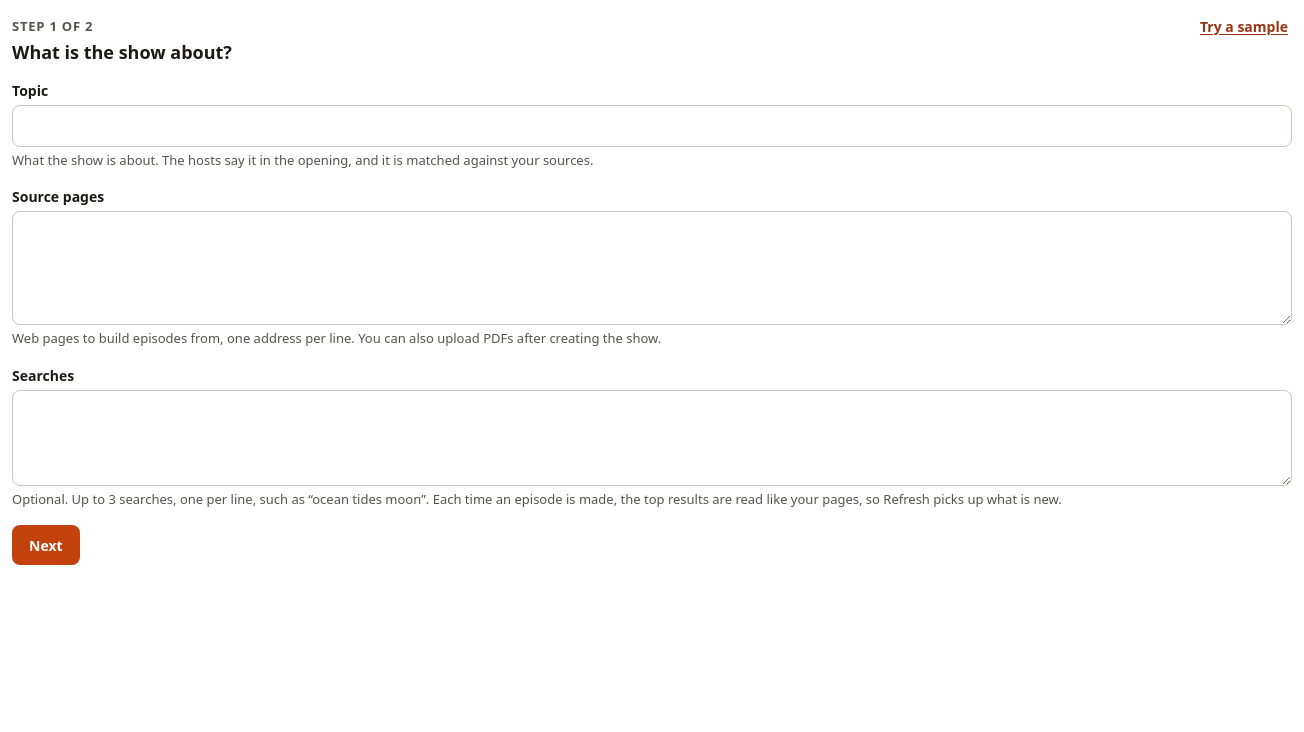
it: new show wizard › keeps what was typed when going back
Type "Bridges" into the field labelled "Topic". click: (652, 126)
box: [12,104,1292,146]
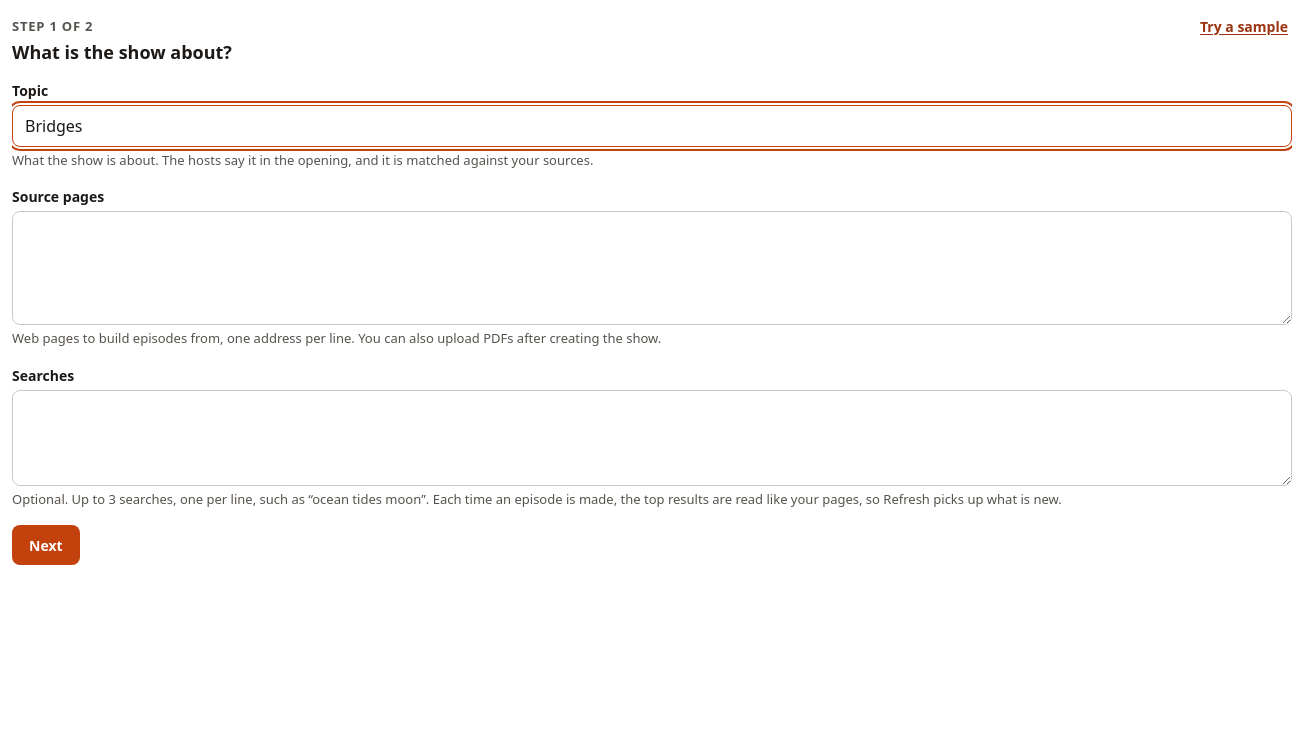
Click the button "Next". click: (46, 545)
box: [12,525,80,565]
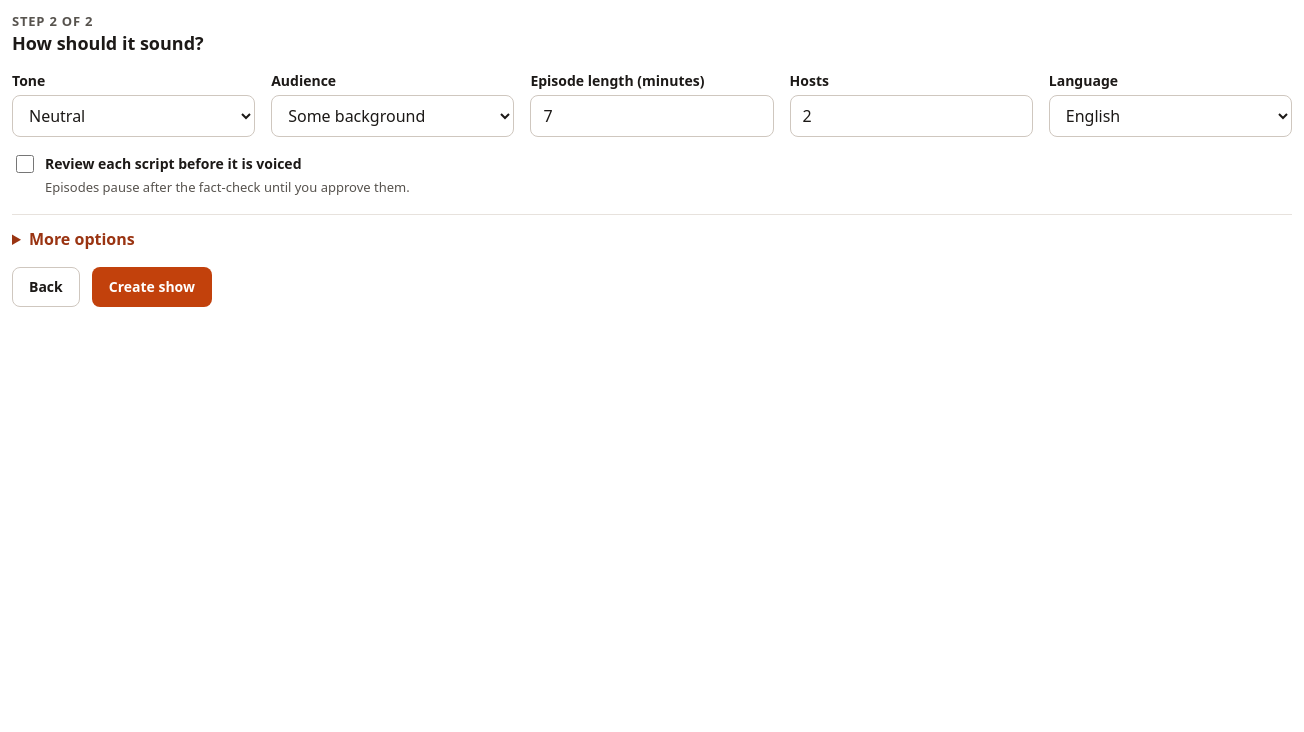
Click the button "Back". click: (46, 286)
box: [12,266,80,306]
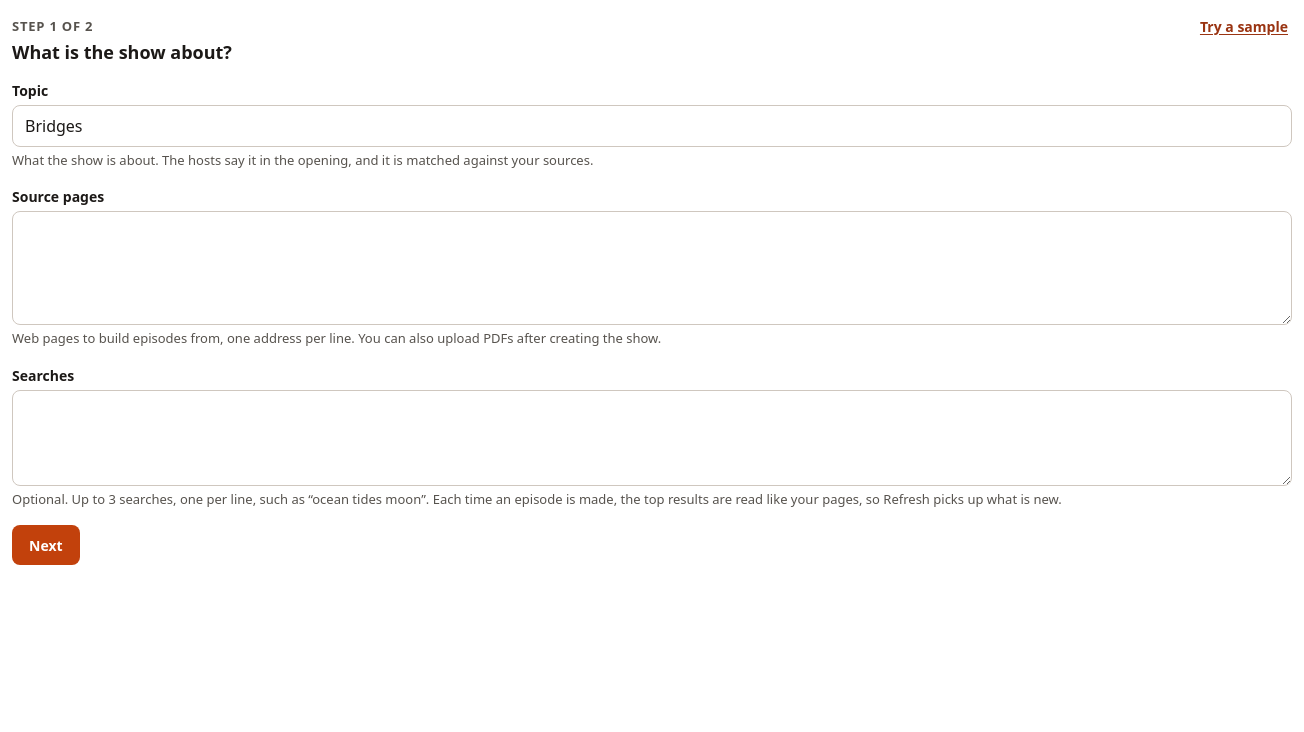
Now the field labelled "Topic" holds "Bridges", box [12,104,1292,146]
